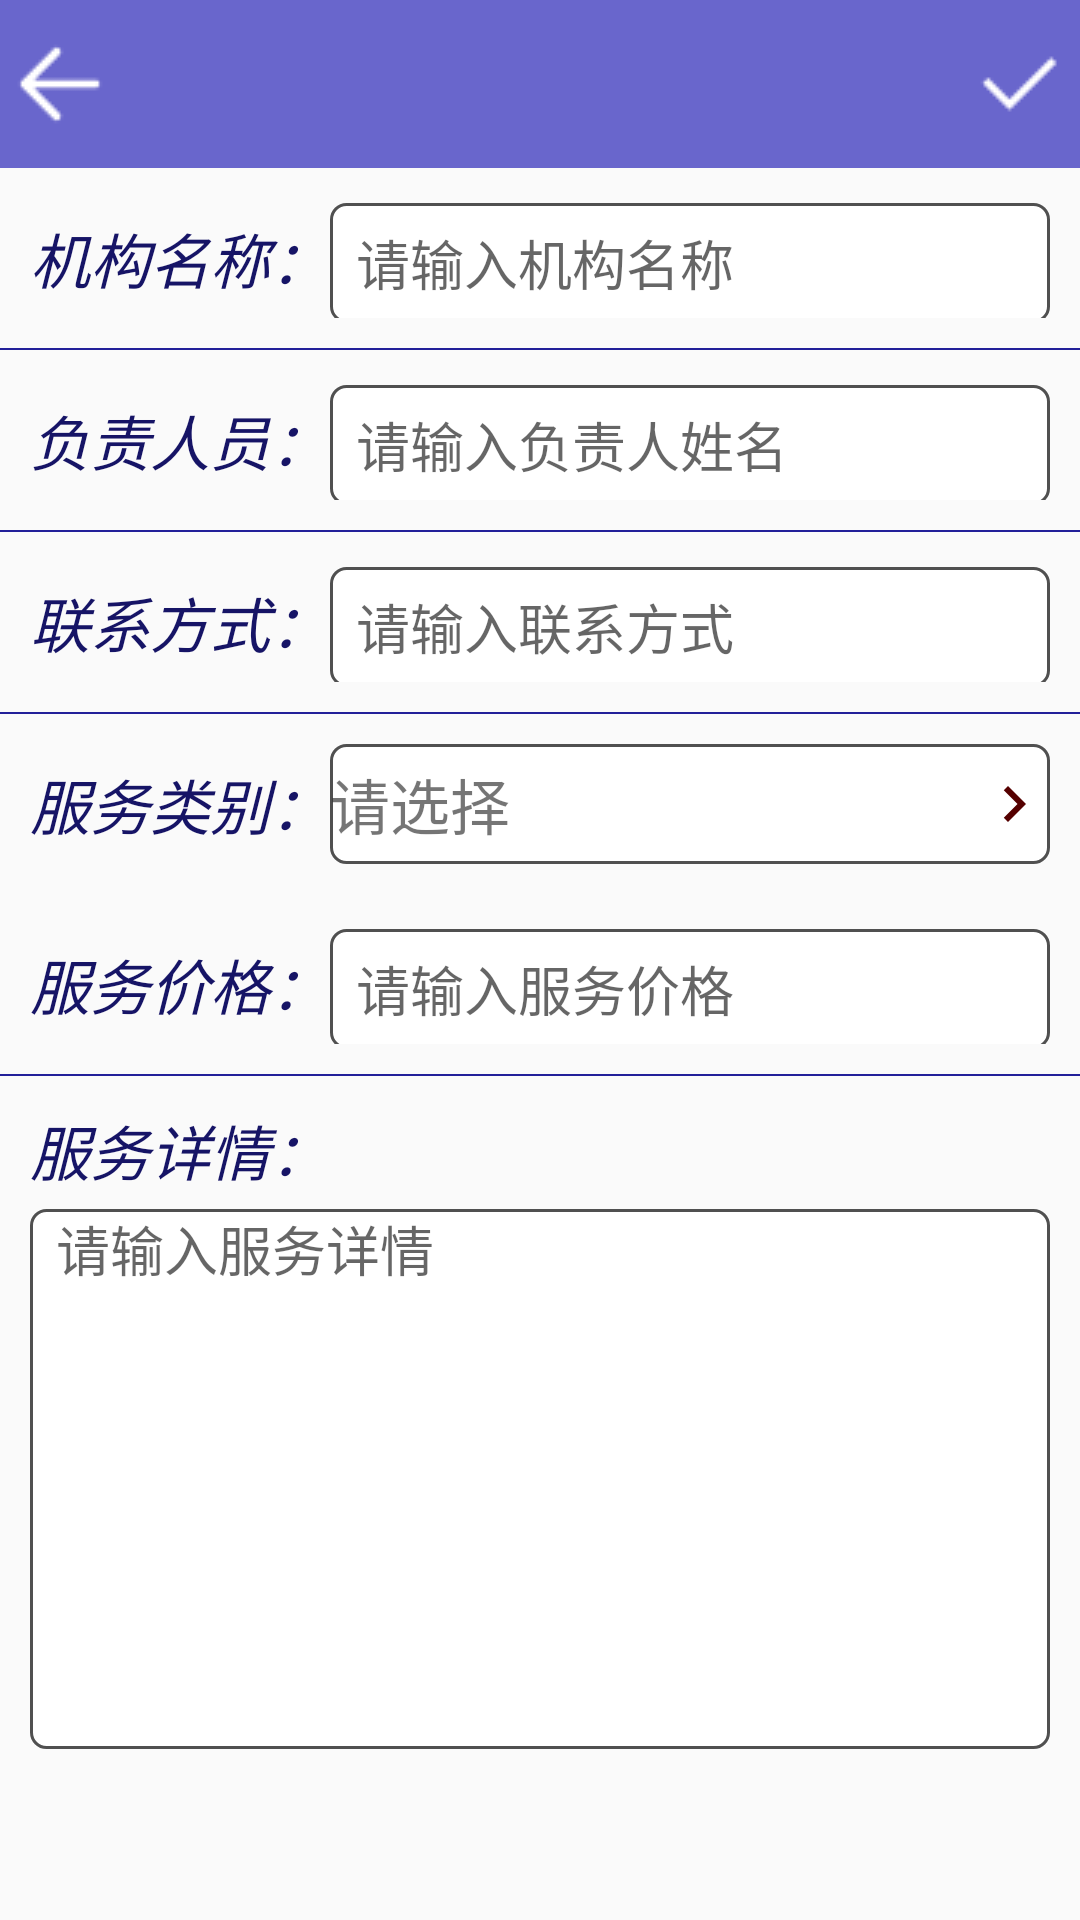

Icons on this 1080×1920 Android screen, each with the point to tap as point (x, y):
back: point (60, 84)
save: point (1020, 83)
